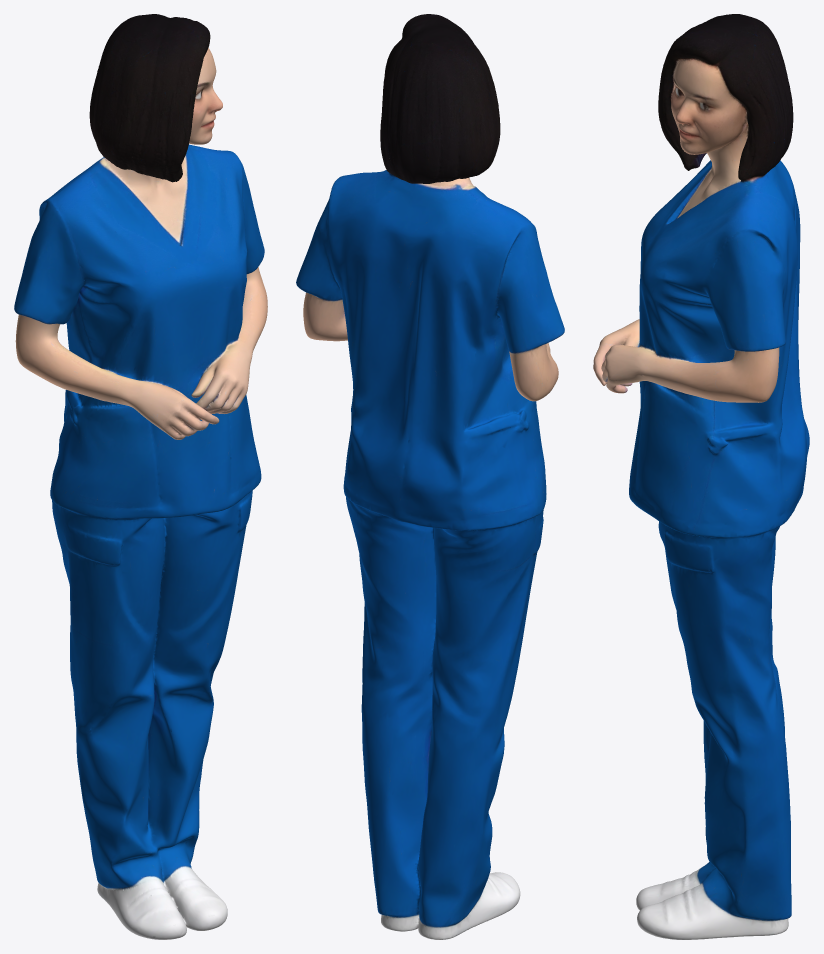
File: nurse_in_blue_scrubs.glb
3 views of the same model, side by side, from view 1: azimuth 30°, elevation 25°; view 2: azimuth 150°, elevation 25°; view 3: azimuth 270°, elevation 25° (orthographic). The views are drawn at different scales.
Visible parts, largest first — view 1: Object_5, Object_6; view 2: Object_5, Object_6; view 3: Object_5, Object_6.
Boxes of the visible parts, left/top/right/bottom form: Object_5: left=14, top=14, right=267, bottom=939; Object_6: left=28, top=14, right=267, bottom=933; Object_5: left=303, top=15, right=564, bottom=939; Object_6: left=296, top=14, right=557, bottom=939; Object_5: left=593, top=14, right=809, bottom=939; Object_6: left=648, top=14, right=809, bottom=939.
Size of the model in its own units: 0.5674 by 1.9 by 0.4133.
Materials: 1 (1 with a texture image).
